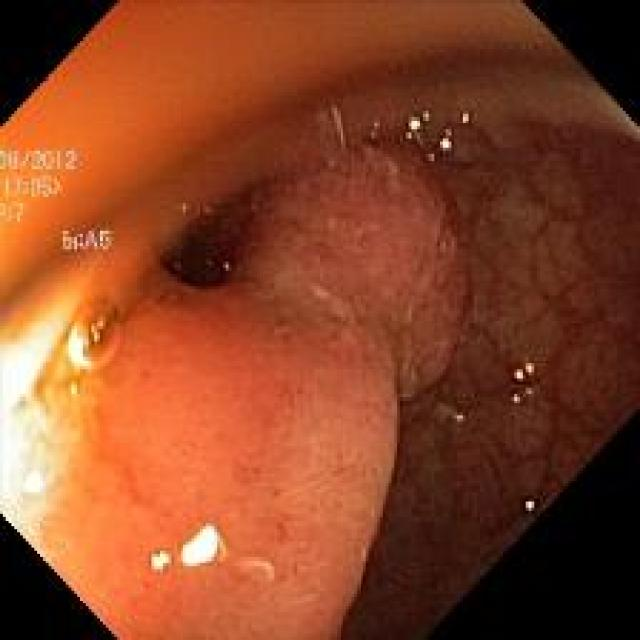Polyps: (39, 148, 469, 637)
